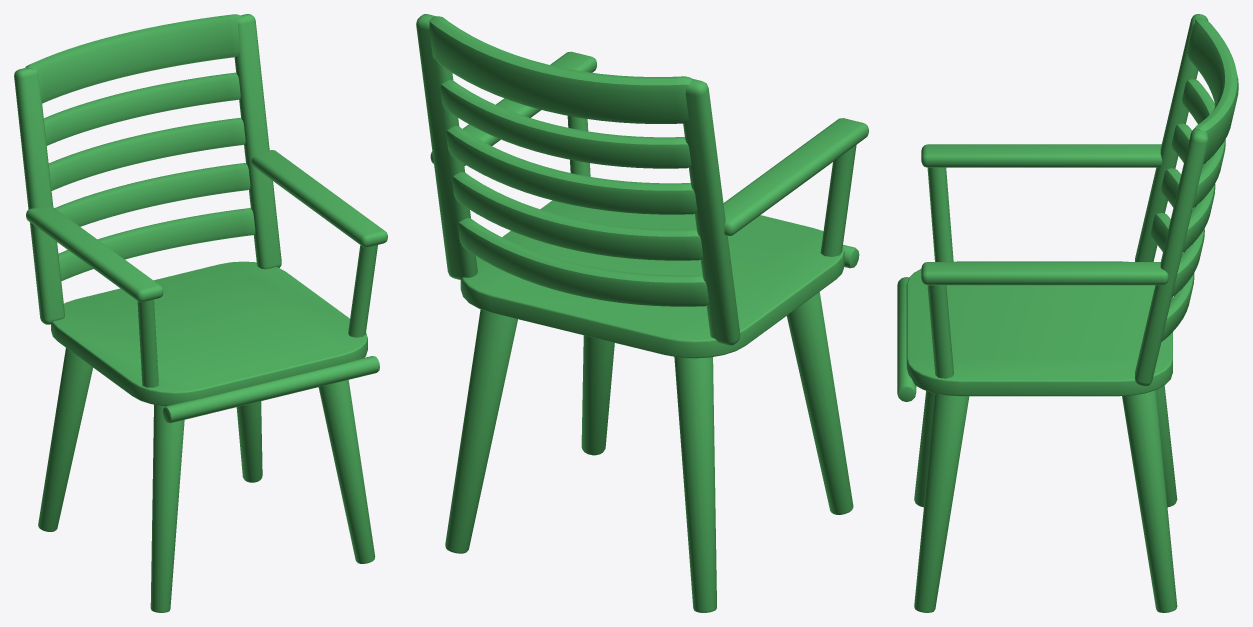
The model's file is cadeira_jardim_plastico_verde.glb.
3 renders of one model, left to right at view 1: azimuth 30°, elevation 25°; view 2: azimuth 150°, elevation 25°; view 3: azimuth 270°, elevation 25°, orthographic. The views are drawn at different scales.
Visible parts, largest first — view 1: cadeira_jardim_plastico_verde; view 2: cadeira_jardim_plastico_verde; view 3: cadeira_jardim_plastico_verde.
Part boxes in pixels (x1=…): cadeira_jardim_plastico_verde: x1=14, y1=14, x2=387, y2=612; cadeira_jardim_plastico_verde: x1=416, y1=14, x2=868, y2=612; cadeira_jardim_plastico_verde: x1=897, y1=14, x2=1238, y2=612.
Bounding box in the file's own units: 0.525 × 0.9064 × 0.5773.
1 material, 1 textured.
